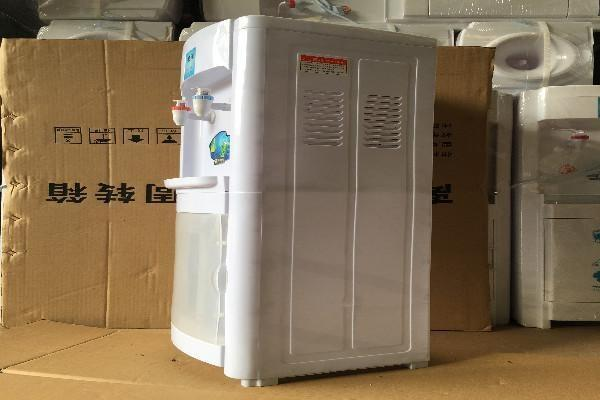Dispenser: (161, 13, 438, 388)
